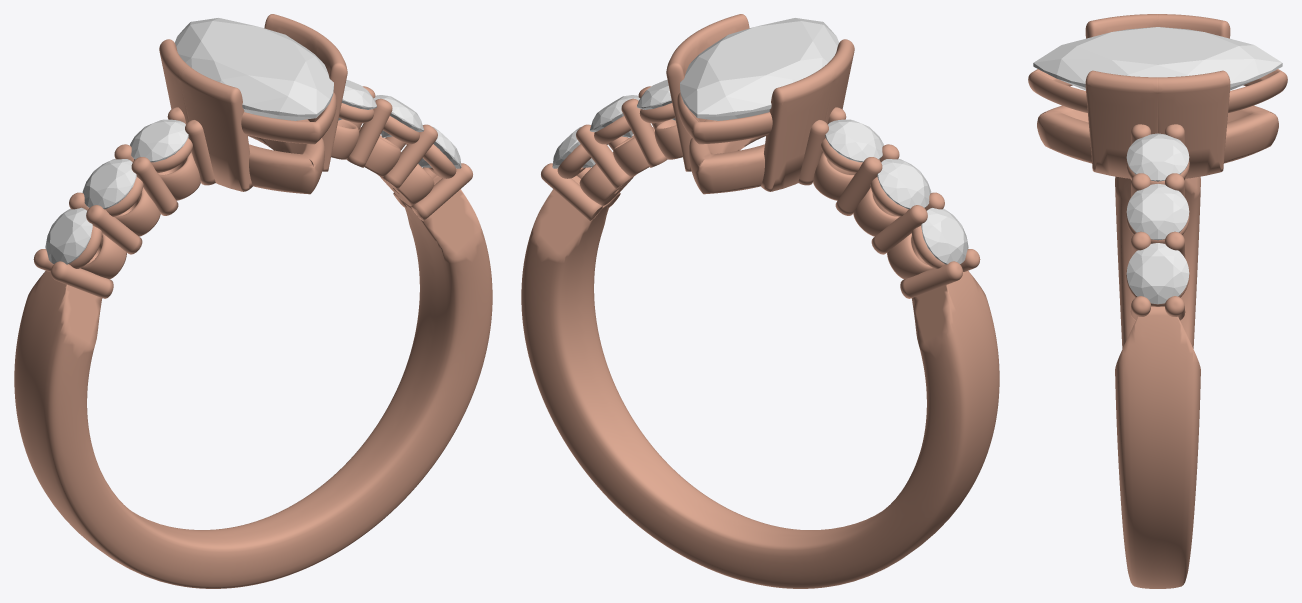
Rendered from diamond-marquise-rosegold-halfmoonbezel-straighttaperedband-7stone.glb.
3 views of the same model, side by side, from view 1: azimuth 30°, elevation 25°; view 2: azimuth 150°, elevation 25°; view 3: azimuth 270°, elevation 25° (orthographic).
Parts seen in each view (by area): view 1: metal.003, stone.002, side.002, side.013, side.014, side.016, side.017; view 2: metal.003, stone.002, side.002, side.013, side.014, side.016, side.017; view 3: metal.003, stone.002, side.015, side.016, side.017.
Boxes of the visible parts, bbox=[...] form: metal.003: bbox=[14, 14, 492, 588]; stone.002: bbox=[175, 18, 333, 120]; side.002: bbox=[45, 207, 92, 264]; side.013: bbox=[82, 159, 136, 209]; side.014: bbox=[130, 119, 188, 162]; side.016: bbox=[374, 95, 423, 137]; side.017: bbox=[338, 80, 376, 120]; metal.003: bbox=[521, 14, 999, 588]; stone.002: bbox=[680, 18, 838, 120]; side.002: bbox=[921, 208, 968, 264]; side.013: bbox=[877, 159, 931, 209]; side.014: bbox=[825, 119, 883, 162]; side.016: bbox=[589, 95, 639, 137]; side.017: bbox=[637, 80, 675, 120]; metal.003: bbox=[1028, 14, 1287, 588]; stone.002: bbox=[1033, 27, 1282, 90]; side.015: bbox=[1126, 243, 1189, 304]; side.016: bbox=[1126, 184, 1189, 240]; side.017: bbox=[1126, 133, 1189, 181].
Size of the model in its own units: 20.5 by 22.93 by 10.4.
